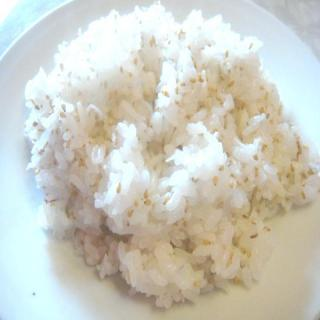Nasi: (23, 1, 320, 310)
